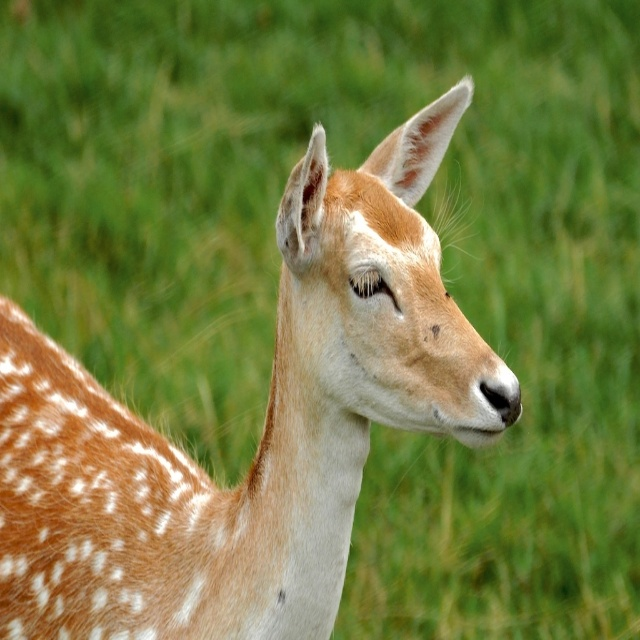Deer: (0, 72, 523, 639)
